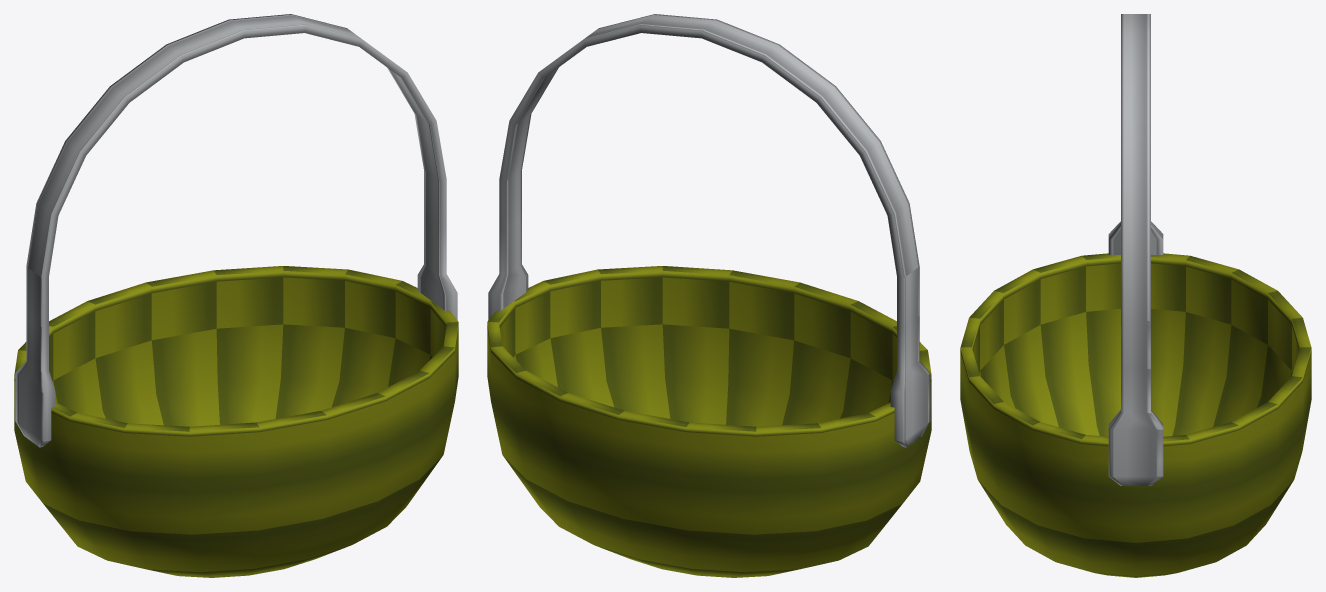
Rendered from WOMAN_NPC_2_seller_modelilng.fbx.
3 views of the same model, side by side, from view 1: azimuth 30°, elevation 25°; view 2: azimuth 150°, elevation 25°; view 3: azimuth 270°, elevation 25° (orthographic). The views are drawn at different scales.
Visible parts, largest first — view 1: bag_bank; view 2: bag_bank; view 3: bag_bank.
Part boxes in pixels (x1,y1,x2,y2): bag_bank: (14,14,458,577); bag_bank: (487,14,931,577); bag_bank: (960,14,1311,577).
Bounding box in the file's own units: 23.27 × 27.73 × 17.65.
